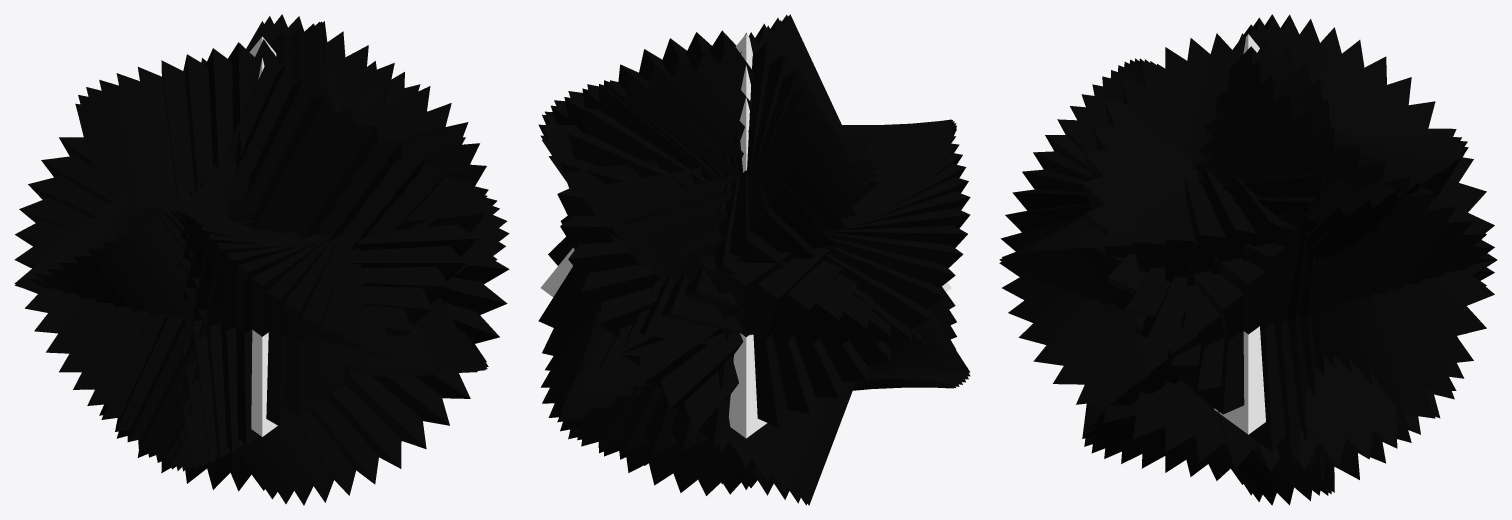
The model's file is Tetrahedron5_Create60FPS3_FreeSpin.fbx.
The picture shows the model from 3 angles, left to right: view 1: azimuth 30°, elevation 25°; view 2: azimuth 150°, elevation 25°; view 3: azimuth 270°, elevation 25°; orthographic projection.
Parts seen in each view (by area): view 1: BaseSolid.001; view 2: BaseSolid.001; view 3: BaseSolid.001.
Part boxes in pixels (bbox=[...]): BaseSolid.001: bbox=[14, 14, 509, 505]; BaseSolid.001: bbox=[538, 14, 970, 505]; BaseSolid.001: bbox=[999, 14, 1497, 505].
Size of the model in its own units: 1.37 by 1.4 by 1.4.
Materials: 1 (1 with a texture image).
